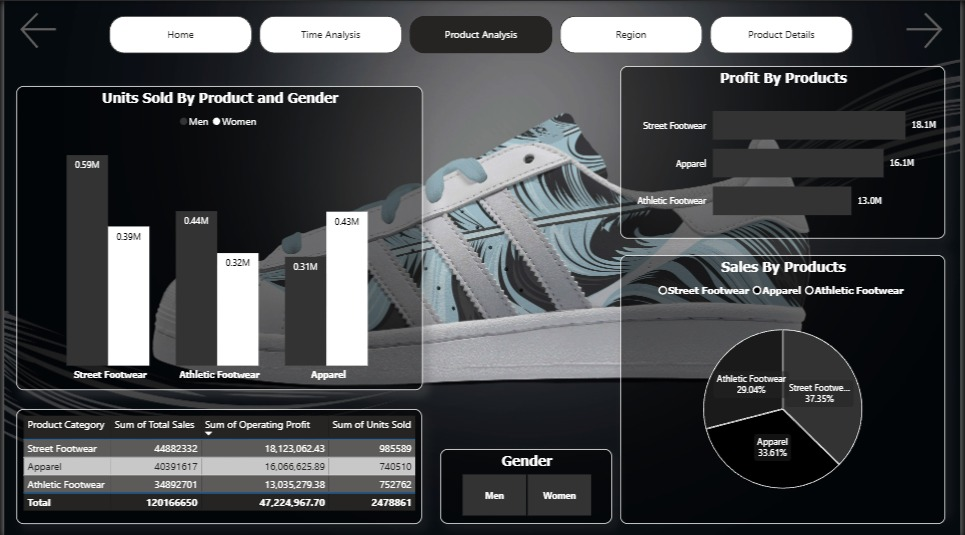

Layout of this report page (visuals, bound fields, positions):
{"tool":"powerbi","page":{"name":"Product Analysis","canvas":[1280,720],"ordinal":2},"visuals":[{"type":"pieChart","title":"Sales By Products","fields":{"Y":["Sum(Adidas_Sales.Total Sales)"],"Category":["Adidas_Sales.Product Category"]},"box":[823.8,339.4,435.1,360.5],"z":0},{"type":"clusteredColumnChart","title":"Units Sold By Product and Gender","fields":{"Category":["Adidas_Sales.Product Category"],"Series":["Adidas_Sales.Gender Type"],"Y":["Sum(Adidas_Sales.Units Sold)"]},"box":[15.4,113.6,544,406.6],"z":1000},{"type":"barChart","title":"Profit By Products","fields":{"Category":["Adidas_Sales.Product Category"],"Y":["Sum(Adidas_Sales.Operating Profit)"]},"box":[823.8,87.3,435.1,230.9],"z":2000},{"type":"tableEx","fields":{"Values":["Adidas_Sales.Product Category","Sum(Adidas_Sales.Total Sales)","Sum(Adidas_Sales.Operating Profit)","Sum(Adidas_Sales.Units Sold)"]},"box":[16.1,546,543.3,153.9],"z":3000},{"type":"slicer","title":"Gender","fields":{"Values":["Adidas_Sales.Gender Type"]},"box":[583.5,599.6,230.2,100.4],"z":4000},{"type":"pageNavigator","box":[140.2,19.6,999.6,50.5],"z":5000},{"type":"actionButton","box":[15.4,9.8,65.9,60.3],"z":6000},{"type":"actionButton","box":[1200.1,9.8,68.7,60.3],"z":7000}]}

Visuals, with their boxes in screenshot pixels (x1, y1, x2, y2), scaled from the page's 1280x720 canvas onto the 965x535 screenshot:
"Sales By Products" pieChart: crop(621, 252, 949, 520)
"Units Sold By Product and Gender" clusteredColumnChart: crop(12, 84, 422, 387)
"Profit By Products" barChart: crop(621, 65, 949, 236)
tableEx - Adidas_Sales.Product Category x Sum(Adidas_Sales.Total Sales): crop(12, 406, 422, 520)
"Gender" slicer: crop(440, 446, 613, 520)
pageNavigator: crop(106, 15, 859, 52)
actionButton: crop(12, 7, 61, 52)
actionButton: crop(905, 7, 957, 52)
